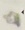microplastic: (2, 11, 23, 28)
